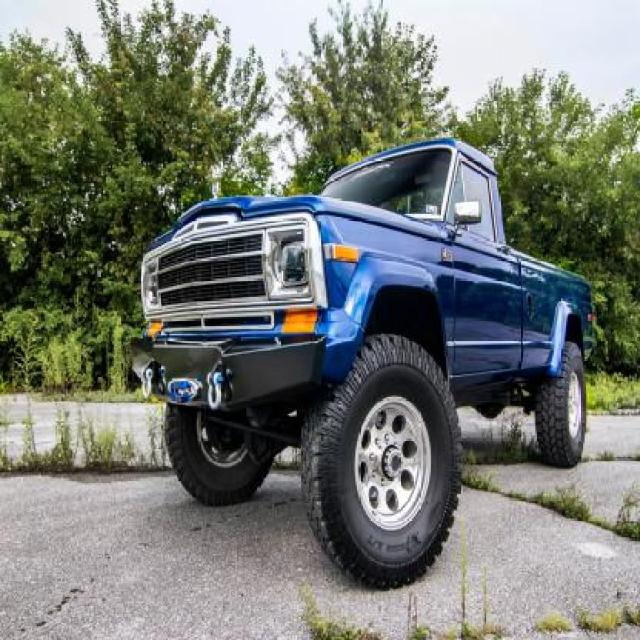Jeep: (135, 133, 596, 588)
